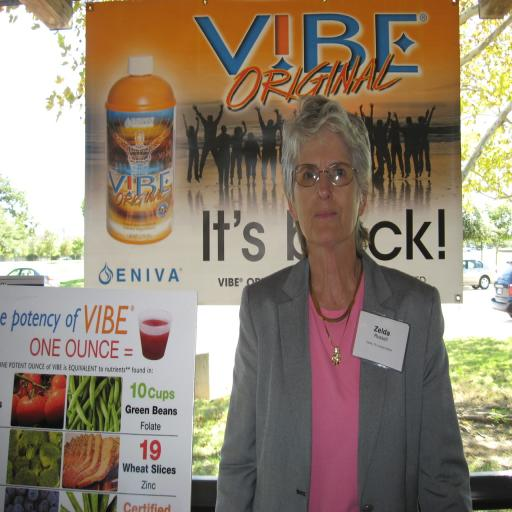Person: (209, 135, 485, 472)
goggles: (283, 169, 369, 222)
no_helmet: (272, 127, 388, 251)
none: (229, 258, 465, 450)
